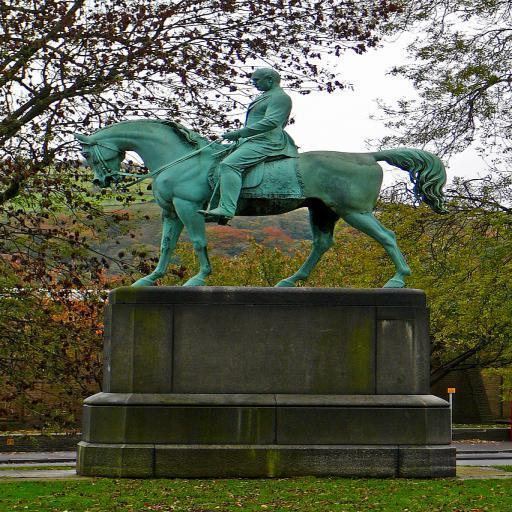horse: (67, 117, 453, 291)
